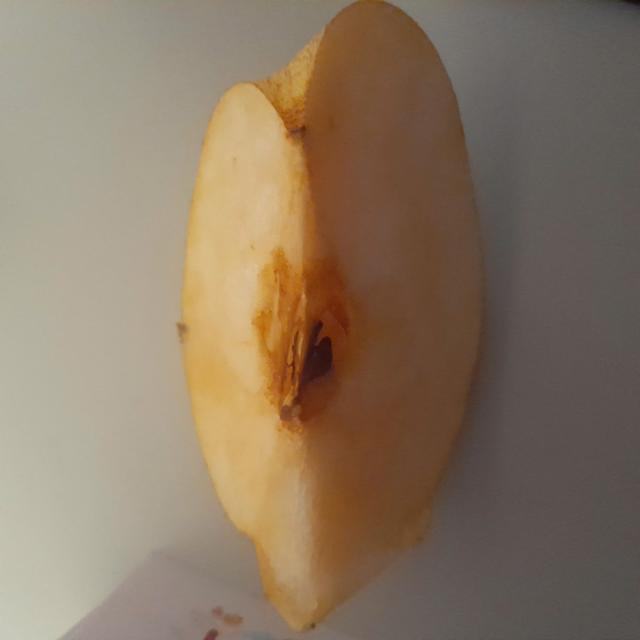Le: (161, 0, 498, 636)
